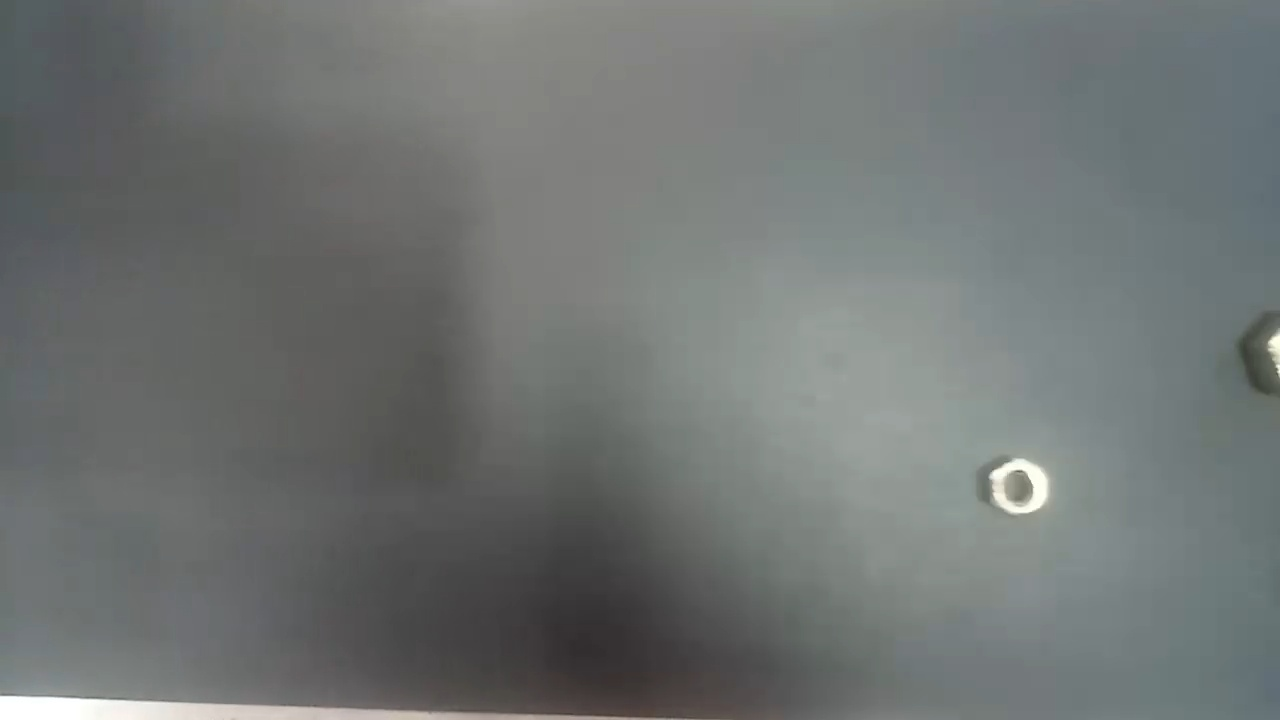Bolt: (986, 453, 1054, 522)
